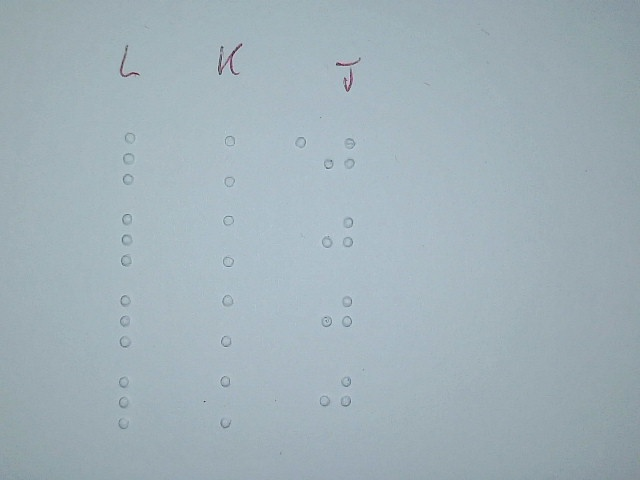J: (321, 128, 359, 189), (317, 368, 353, 429), (320, 206, 355, 267), (320, 285, 355, 346)
K: (215, 130, 258, 192), (215, 210, 258, 272), (213, 289, 256, 351), (213, 370, 256, 432)
L: (115, 126, 161, 190), (114, 209, 160, 273), (111, 288, 157, 352), (110, 369, 156, 433)
